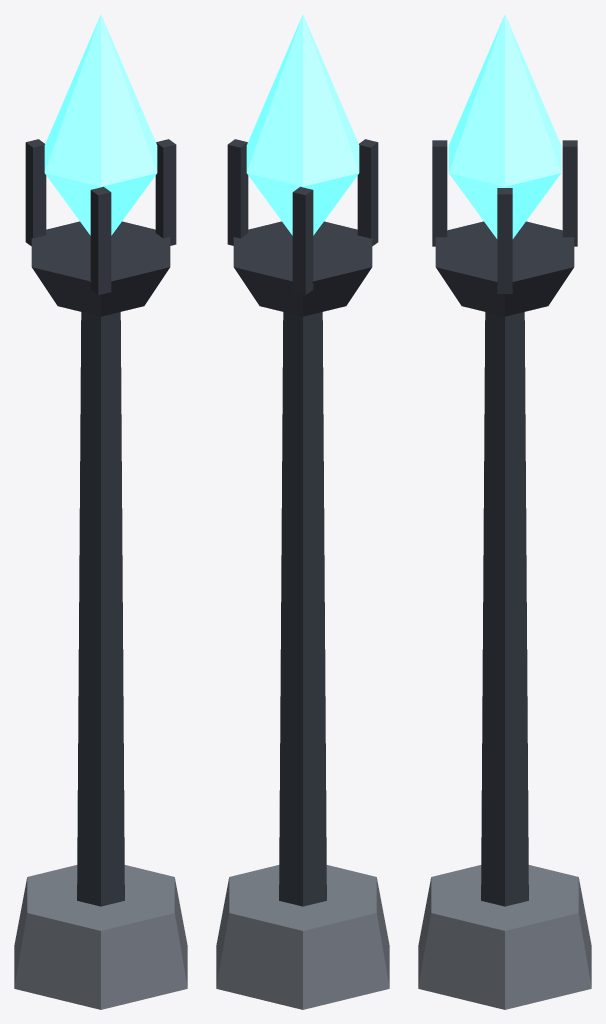
Rendered from b-crystal-lamp.glb.
3 views of the same model, side by side, from view 1: azimuth 30°, elevation 25°; view 2: azimuth 150°, elevation 25°; view 3: azimuth 270°, elevation 25° (orthographic).
Parts seen in each view (by area): view 1: b-crystal-lamp; view 2: b-crystal-lamp; view 3: b-crystal-lamp.
Boxes of the visible parts, <box> form: b-crystal-lamp: <box>14,14,187,1009</box>; b-crystal-lamp: <box>216,14,389,1009</box>; b-crystal-lamp: <box>418,14,591,1009</box>.
Size of the model in its own units: 0.4 by 2.1 by 0.3464.
